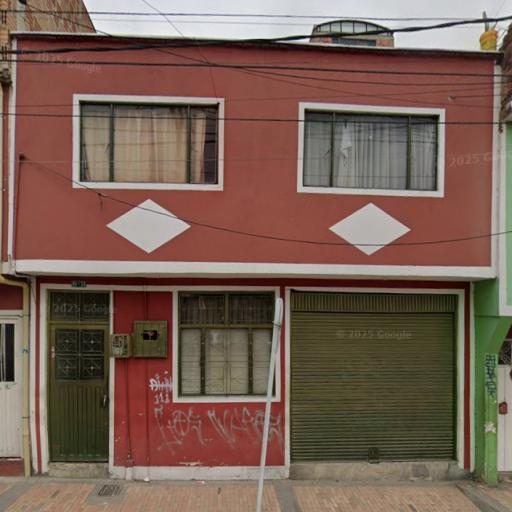Casa: (0, 35, 509, 492)
